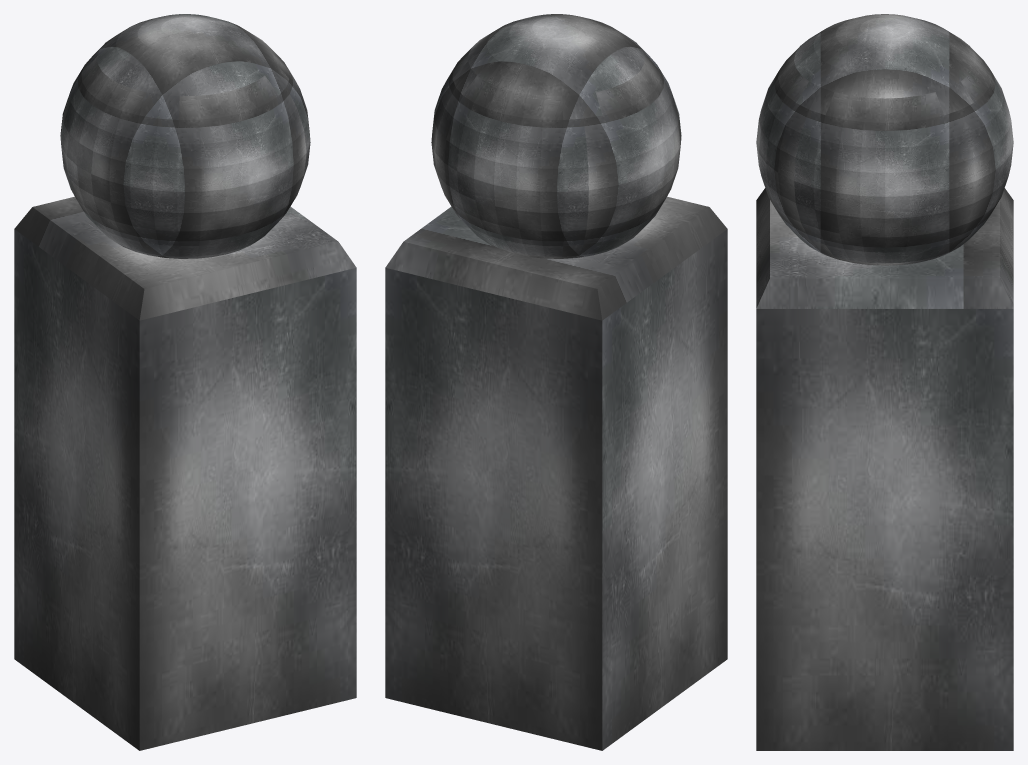
File: metalPlayer1.obj
The picture shows the model from 3 angles, left to right: view 1: azimuth 30°, elevation 25°; view 2: azimuth 150°, elevation 25°; view 3: azimuth 270°, elevation 25°; orthographic projection. The views are drawn at different scales.
Visible parts, largest first — view 1: Cube, Sphere; view 2: Cube, Sphere; view 3: Cube, Sphere.
Part boxes in pixels (box(x1,y1,x2,y2)): Cube: box(14, 196, 356, 750); Sphere: box(60, 14, 310, 258); Cube: box(385, 196, 727, 750); Sphere: box(431, 14, 681, 258); Cube: box(756, 188, 1013, 750); Sphere: box(756, 14, 1013, 265).
Bounding box in the file's own units: 2 × 5.75 × 2.
Materials: 1 (1 with a texture image).
